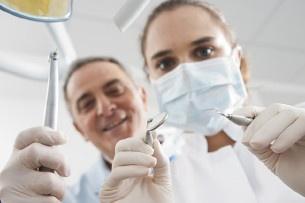Mask: (148, 34, 240, 125)
